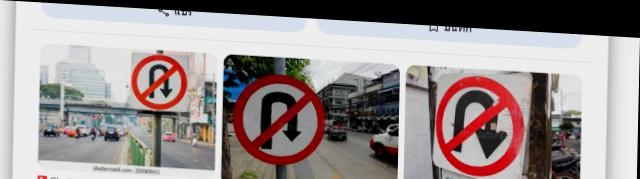not_u_turn_right: (226, 66, 333, 169), (429, 71, 529, 176), (127, 48, 194, 126)
